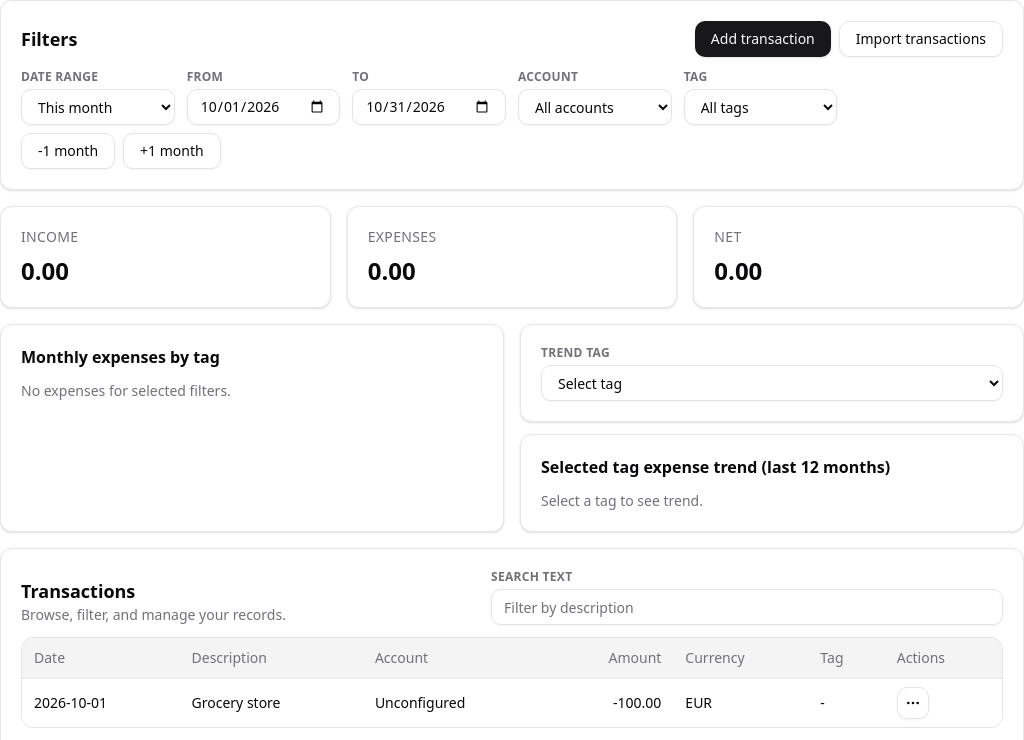
it: TransactionsPage import dialog gating › closes the import dialog when the Accounts link is clicked
Expected: the text "Grocery store" is shown, [180,678,363,726]
Click the button "Import transactions": {"x": 921, "y": 39} [839,21,1003,57]
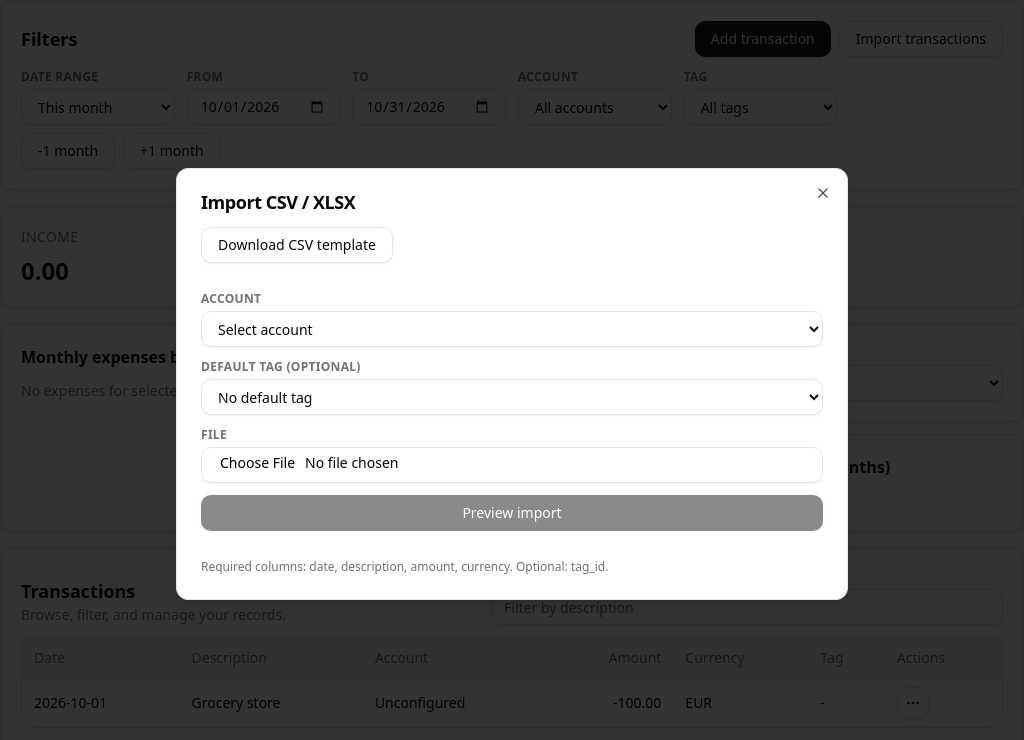
Select "Unconfigured" in the 1st dropdown: {"x": 512, "y": 329} [201,311,823,347]
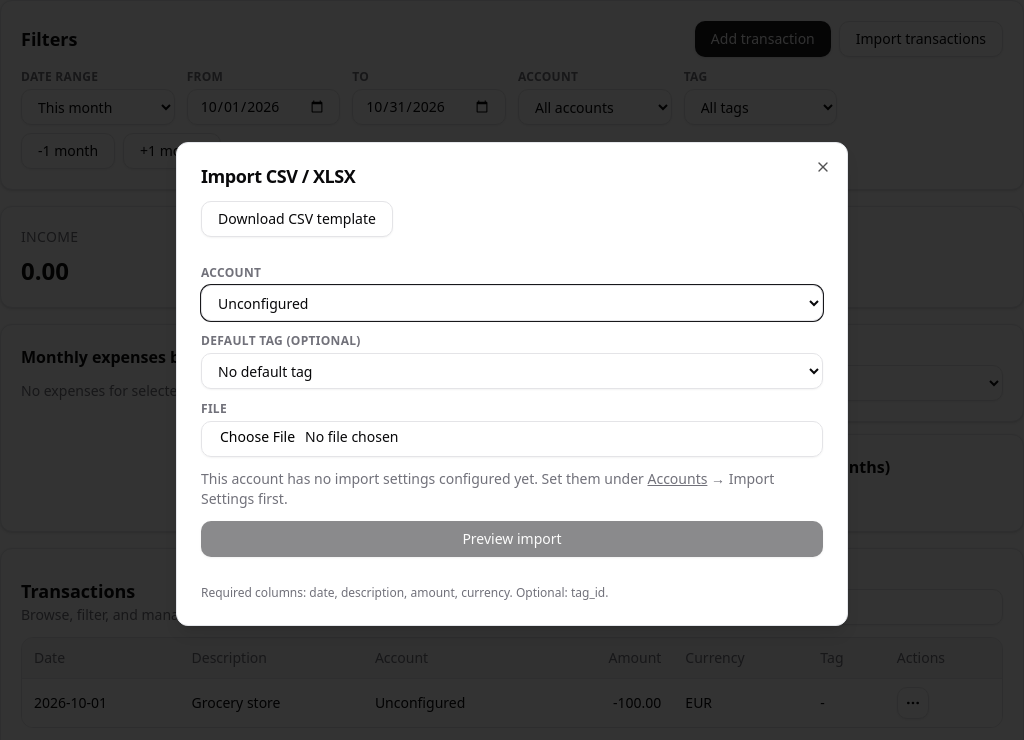
Result: the text "no import settings configured yet" is shown at [201,469,644,488]
Click the link "Accounts": {"x": 677, "y": 478} [648,469,707,488]
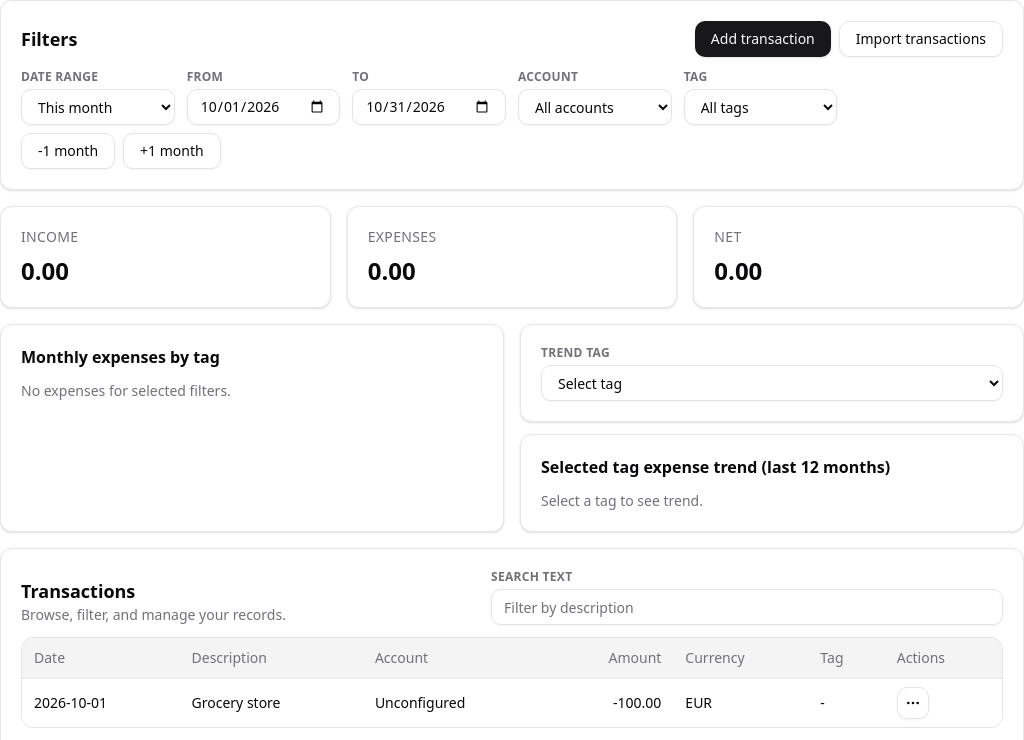
Result: the dialog is gone
